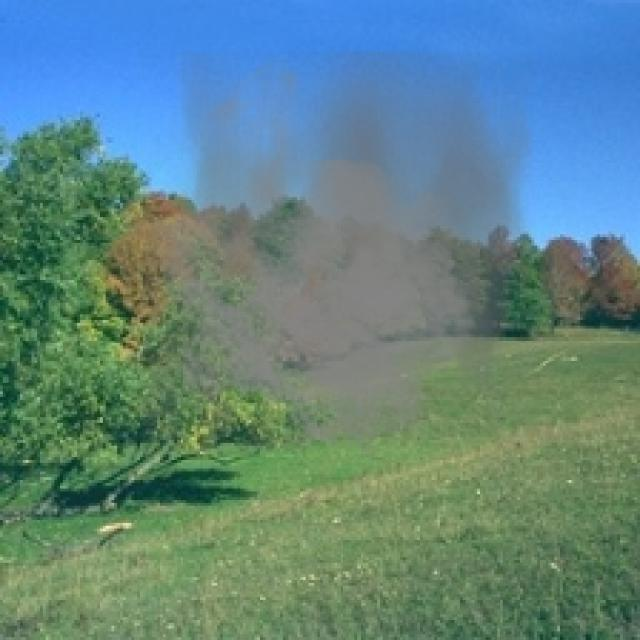Smoke: (140, 52, 534, 457)
